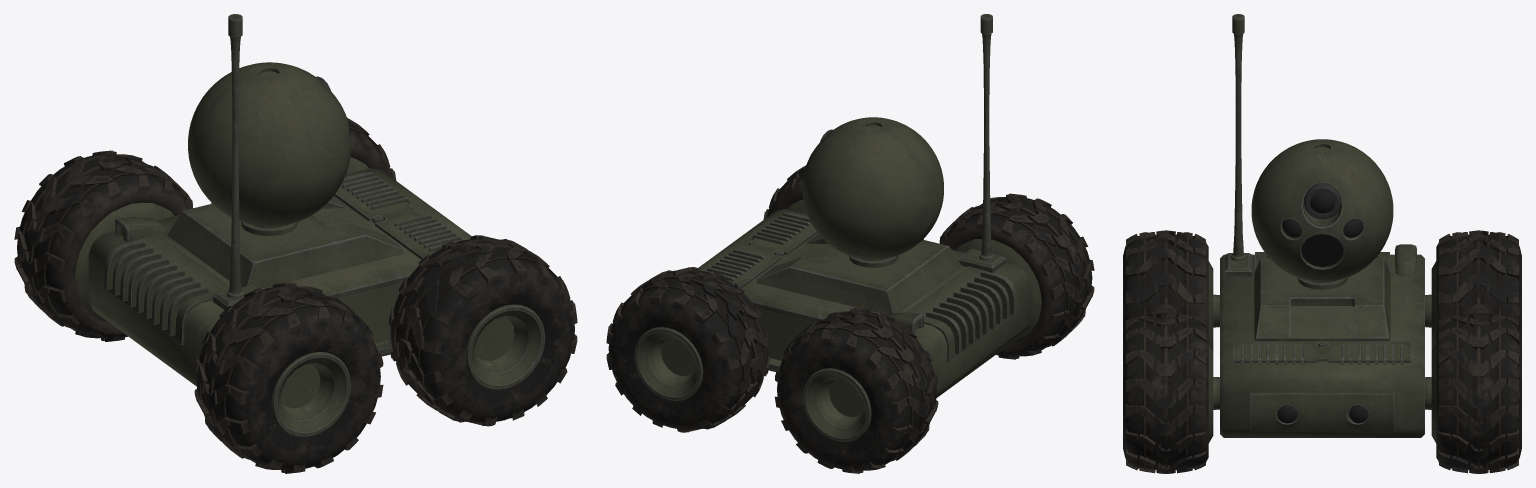
The model's file is desert.glb.
3 views of the same model, side by side, from view 1: azimuth 30°, elevation 25°; view 2: azimuth 150°, elevation 25°; view 3: azimuth 270°, elevation 25° (orthographic). The views are drawn at different scales.
Visible parts, largest first — view 1: Cube.006; view 2: Cube.006; view 3: Cube.006.
Boxes of the visible parts, x1=… form: Cube.006: x1=14, y1=14, x2=577, y2=473; Cube.006: x1=606, y1=14, x2=1094, y2=473; Cube.006: x1=1123, y1=14, x2=1521, y2=473.
Size of the model in its own units: 0.5994 by 0.6744 by 0.6718.
1 material, 1 textured.
